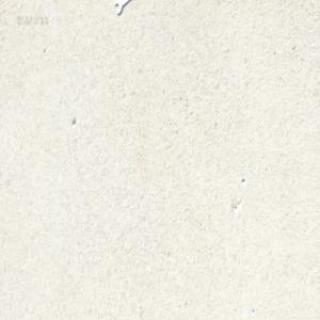Wrenchtrack_idkeyframe: (114, 0, 128, 13)
